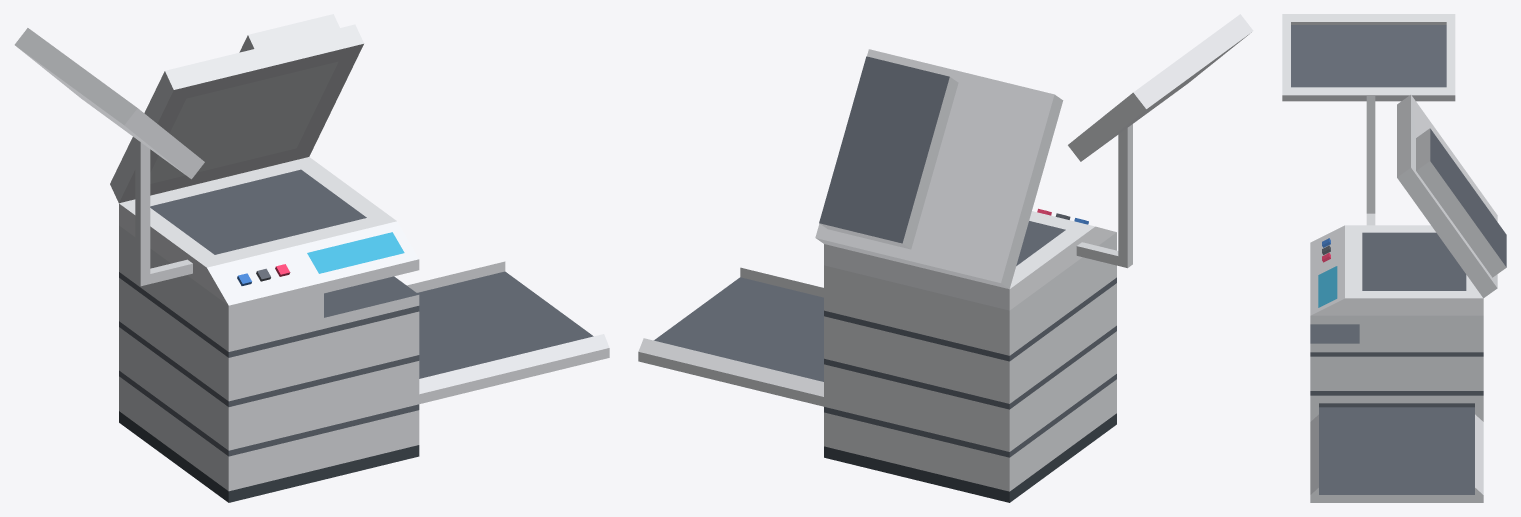
File: 3_PhotocopyMachineRight.fbx
3 views of the same model, side by side, from view 1: azimuth 30°, elevation 25°; view 2: azimuth 150°, elevation 25°; view 3: azimuth 270°, elevation 25° (orthographic). The views are drawn at different scales.
Visible parts, largest first — view 1: 0_PhotocopyMachine.003; view 2: 0_PhotocopyMachine.003; view 3: 0_PhotocopyMachine.003.
Boxes of the visible parts, bbox=[...] form: 0_PhotocopyMachine.003: bbox=[14, 14, 609, 502]; 0_PhotocopyMachine.003: bbox=[638, 14, 1253, 502]; 0_PhotocopyMachine.003: bbox=[1282, 14, 1506, 502].
Bounding box in the file's own units: 130 × 264 × 218.
Materials: 1 (1 with a texture image).
